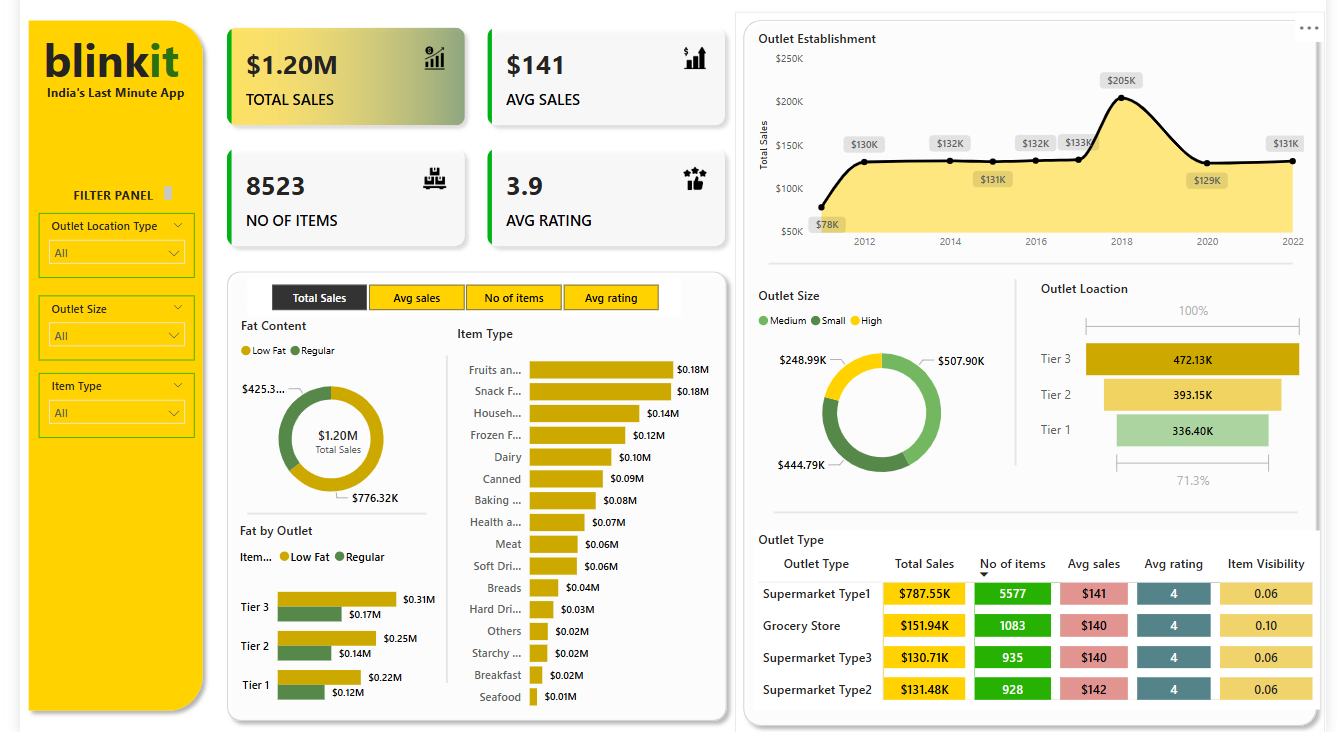

The dashboard page shown, as its layout file describes it:
{"tool":"powerbi","page":{"name":"Page 1","canvas":[1400,800],"ordinal":0},"visuals":[{"type":"shape","box":[0,25.5,205.1,758.7],"z":0},{"type":"textbox","box":[20.1,38.9,185,75.1],"z":1000},{"type":"textbox","box":[17.4,97.9,170.2,33.5],"z":2000},{"type":"cardVisual","fields":{"Data":["BlinkIT Grocery Data.Total Sales","BlinkIT Grocery Data.Avg sales","BlinkIT Grocery Data.No of items","BlinkIT Grocery Data.Avg rating"]},"box":[205.1,25.5,569.7,269.4],"z":3000},{"type":"shape","box":[213.1,294.9,553.6,500],"z":4000},{"type":"donutChart","title":"Fat Content","fields":{"Y":["BlinkIT Grocery Data.Total Sales"],"Category":["BlinkIT Grocery Data.Item Fat Content"]},"box":[231.9,352.5,203.8,217.2],"z":5000},{"type":"slicer","fields":{"Values":["Metrics.Metrics"]},"box":[244,311,465.1,41.6],"z":6000},{"type":"cardVisual","fields":{"Data":["BlinkIT Grocery Data.Total Sales"]},"box":[276.1,447.7,130,76.4],"z":7000},{"type":"clusteredBarChart","title":"Fat by Outlet","fields":{"Y":["BlinkIT Grocery Data.Total Sales"],"Category":["BlinkIT Grocery Data.Outlet Location Type"],"Series":["BlinkIT Grocery Data.Item Fat Content"]},"box":[230.6,572.4,219.8,214.5],"z":8000},{"type":"shape","box":[244,557.6,191.7,12.1],"z":9000},{"type":"shape","box":[451.7,394.1,12.1,351.2],"z":10000},{"type":"barChart","title":"Item Type","fields":{"Y":["BlinkIT Grocery Data.Total Sales"],"Category":["BlinkIT Grocery Data.Item Type"]},"box":[463.8,360.6,280.2,423.6],"z":11000},{"type":"shape","box":[766.8,25.5,632.7,774.8],"z":12000},{"type":"lineChart","title":"Outlet Establishment","fields":{"Y":["BlinkIT Grocery Data.Total Sales"],"Category":["BlinkIT Grocery Data.Outlet Establishment Year"]},"box":[786.9,44.2,595.2,245.3],"z":13000},{"type":"shape","box":[803,289.5,561.7,12.1],"z":14000},{"type":"donutChart","title":"Outlet Size","fields":{"Y":["BlinkIT Grocery Data.Total Sales"],"Category":["BlinkIT Grocery Data.Outlet Size"]},"box":[786.9,320.4,274.8,225.2],"z":15000},{"type":"shape","box":[1061.7,312.3,12.1,199.7],"z":16000},{"type":"funnel","title":"Outlet Loaction","fields":{"Y":["Sum(BlinkIT Grocery Data.Sales)"],"Category":["BlinkIT Grocery Data.Outlet Location Type"]},"box":[1089.8,312.3,292.2,230.6],"z":17000},{"type":"shape","box":[808.3,556.3,561.7,12.1],"z":18000},{"type":"pivotTable","title":"Outlet Type","fields":{"Rows":["BlinkIT Grocery Data.Outlet Type"],"Values":["BlinkIT Grocery Data.Total Sales","BlinkIT Grocery Data.No of items","BlinkIT Grocery Data.Avg sales","BlinkIT Grocery Data.Avg rating","Avg(BlinkIT Grocery Data.Item Visibility)"]},"box":[786.9,581.8,607.2,191.7],"z":19000},{"type":"slicer","fields":{"Values":["BlinkIT Grocery Data.Outlet Location Type"]},"box":[20.1,241.3,167.6,69.7],"z":20000},{"type":"slicer","fields":{"Values":["BlinkIT Grocery Data.Outlet Size"]},"box":[20.1,329.8,167.6,69.7],"z":21000},{"type":"slicer","fields":{"Values":["BlinkIT Grocery Data.Item Type"]},"box":[20.1,412.9,167.6,69.7],"z":22000},{"type":"textbox","box":[40.2,207.8,127.3,24.1],"z":23000}]}

Visuals, with their boxes on the page's 1400x800 design canvas (x1, y1, x2, y2). These are canvas units, not pixel positions in the 1337x732 screenshot, which may show the page scaled, cropped or inside an application window:
shape: detection(0, 26, 205, 784)
textbox: detection(20, 39, 205, 114)
textbox: detection(17, 98, 188, 131)
cardVisual - BlinkIT Grocery Data.Total Sales x BlinkIT Grocery Data.Avg sales: detection(205, 26, 775, 295)
shape: detection(213, 295, 767, 795)
"Fat Content" donutChart: detection(232, 352, 436, 570)
slicer - Metrics.Metrics: detection(244, 311, 709, 353)
cardVisual - BlinkIT Grocery Data.Total Sales: detection(276, 448, 406, 524)
"Fat by Outlet" clusteredBarChart: detection(231, 572, 450, 787)
shape: detection(244, 558, 436, 570)
shape: detection(452, 394, 464, 745)
"Item Type" barChart: detection(464, 361, 744, 784)
shape: detection(767, 26, 1400, 800)
"Outlet Establishment" lineChart: detection(787, 44, 1382, 290)
shape: detection(803, 290, 1365, 302)
"Outlet Size" donutChart: detection(787, 320, 1062, 546)
shape: detection(1062, 312, 1074, 512)
"Outlet Loaction" funnel: detection(1090, 312, 1382, 543)
shape: detection(808, 556, 1370, 568)
"Outlet Type" pivotTable: detection(787, 582, 1394, 774)
slicer - BlinkIT Grocery Data.Outlet Location Type: detection(20, 241, 188, 311)
slicer - BlinkIT Grocery Data.Outlet Size: detection(20, 330, 188, 400)
slicer - BlinkIT Grocery Data.Item Type: detection(20, 413, 188, 483)
textbox: detection(40, 208, 168, 232)
